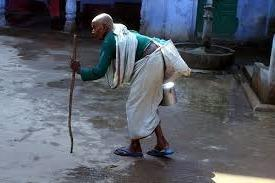Human: (76, 9, 187, 160)
